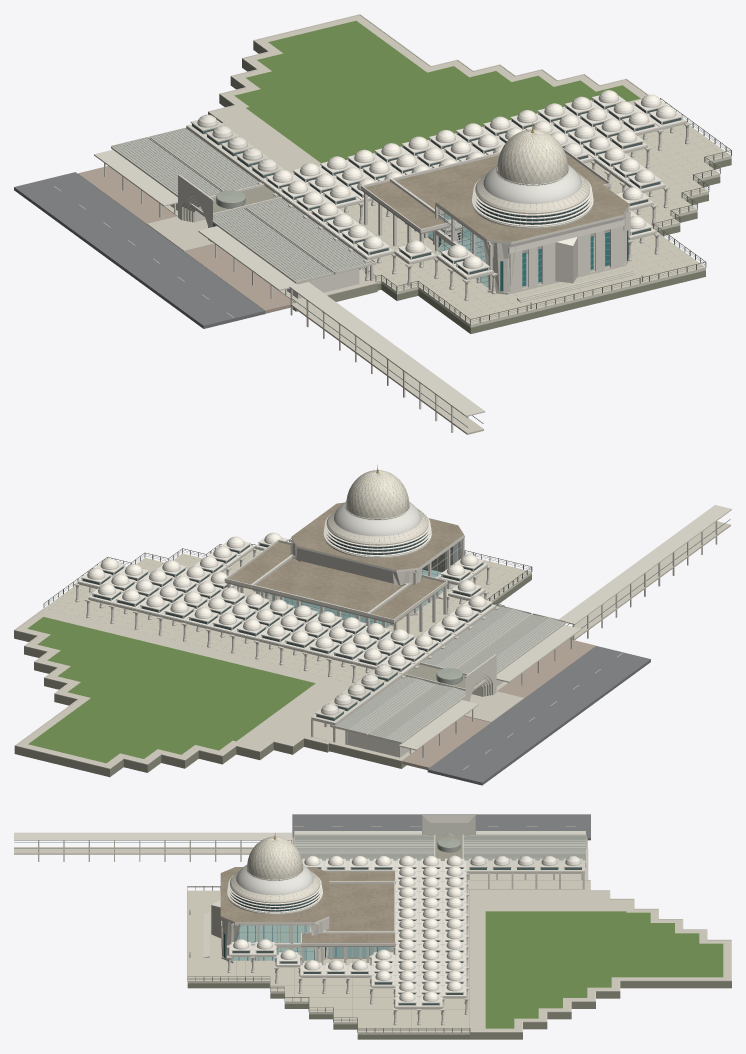
File: Masjid-An-Nur-UTP.glb
The picture shows the model from 3 angles, top to bottom: view 1: azimuth 30°, elevation 25°; view 2: azimuth 150°, elevation 25°; view 3: azimuth 270°, elevation 25°; orthographic projection. The views are drawn at different scales.
Visible parts, largest first — view 1: Plaza lawn, Travertine paving, Street carriageway, Arcade roof lanterns, Aluminium service roof, Lantern cornice, Gravel ballast, Plaza limestone, Street forecourt paving, Roof standing seams, Covered bridge canopy, Lantern grille (+30 smaller); view 2: Plaza lawn, Arcade roof lanterns, Street carriageway, Plaza limestone, Gravel ballast, Aluminium service roof, Travertine paving, Lantern cornice, Street forecourt paving, Roof standing seams, Plaza masonry, Lantern grille (+27 smaller); view 3: Plaza lawn, Travertine paving, Plaza limestone, Arcade roof lanterns, Gravel ballast, Aluminium service roof, Lantern cornice, Street carriageway, Roof standing seams, Canopy coping, Covered bridge canopy, Plaza masonry (+30 smaller).
Part boxes in pixels (x1,y1,x2,y2): Plaza lawn: (234,20,640,163); Travertine paving: (339,124,731,324); Street carriageway: (14,172,265,328); Arcade roof lanterns: (272,90,676,268); Aluminium service roof: (112,129,373,281); Lantern cornice: (190,95,683,272); Gravel ballast: (365,153,629,241); Plaza limestone: (208,15,646,173); Street forecourt paving: (78,166,294,313); Roof standing seams: (114,129,371,280); Covered bridge canopy: (289,282,485,416); Lantern grille: (192,100,681,274); Plaza lawn: (27,617,315,763); Arcade roof lanterns: (87,532,486,666); Street carriageway: (427,646,650,785); Plaza limestone: (14,608,353,769); Gravel ballast: (229,502,463,619); Aluminium service roof: (335,606,564,741); Travertine paving: (44,550,531,683); Lantern cornice: (81,537,492,718); Street forecourt paving: (402,639,595,769); Roof standing seams: (337,606,563,741); Plaza masonry: (14,630,328,777); Lantern grille: (83,541,490,720); Plaza lawn: (485,911,723,1028); Travertine paving: (187,889,469,1032); Plaza limestone: (470,880,731,1032); Arcade roof lanterns: (233,855,462,1001); Gravel ballast: (220,867,394,942); Aluminium service roof: (294,835,585,865); Lantern cornice: (231,858,582,1003); Street carriageway: (292,814,590,840); Roof standing seams: (294,836,585,864); Canopy coping: (229,861,465,1006); Covered bridge canopy: (14,832,291,840); Plaza masonry: (470,981,731,1039).
Size of the model in its own units: 107 by 25.83 by 148.
Materials: 149 (2 with a texture image).
